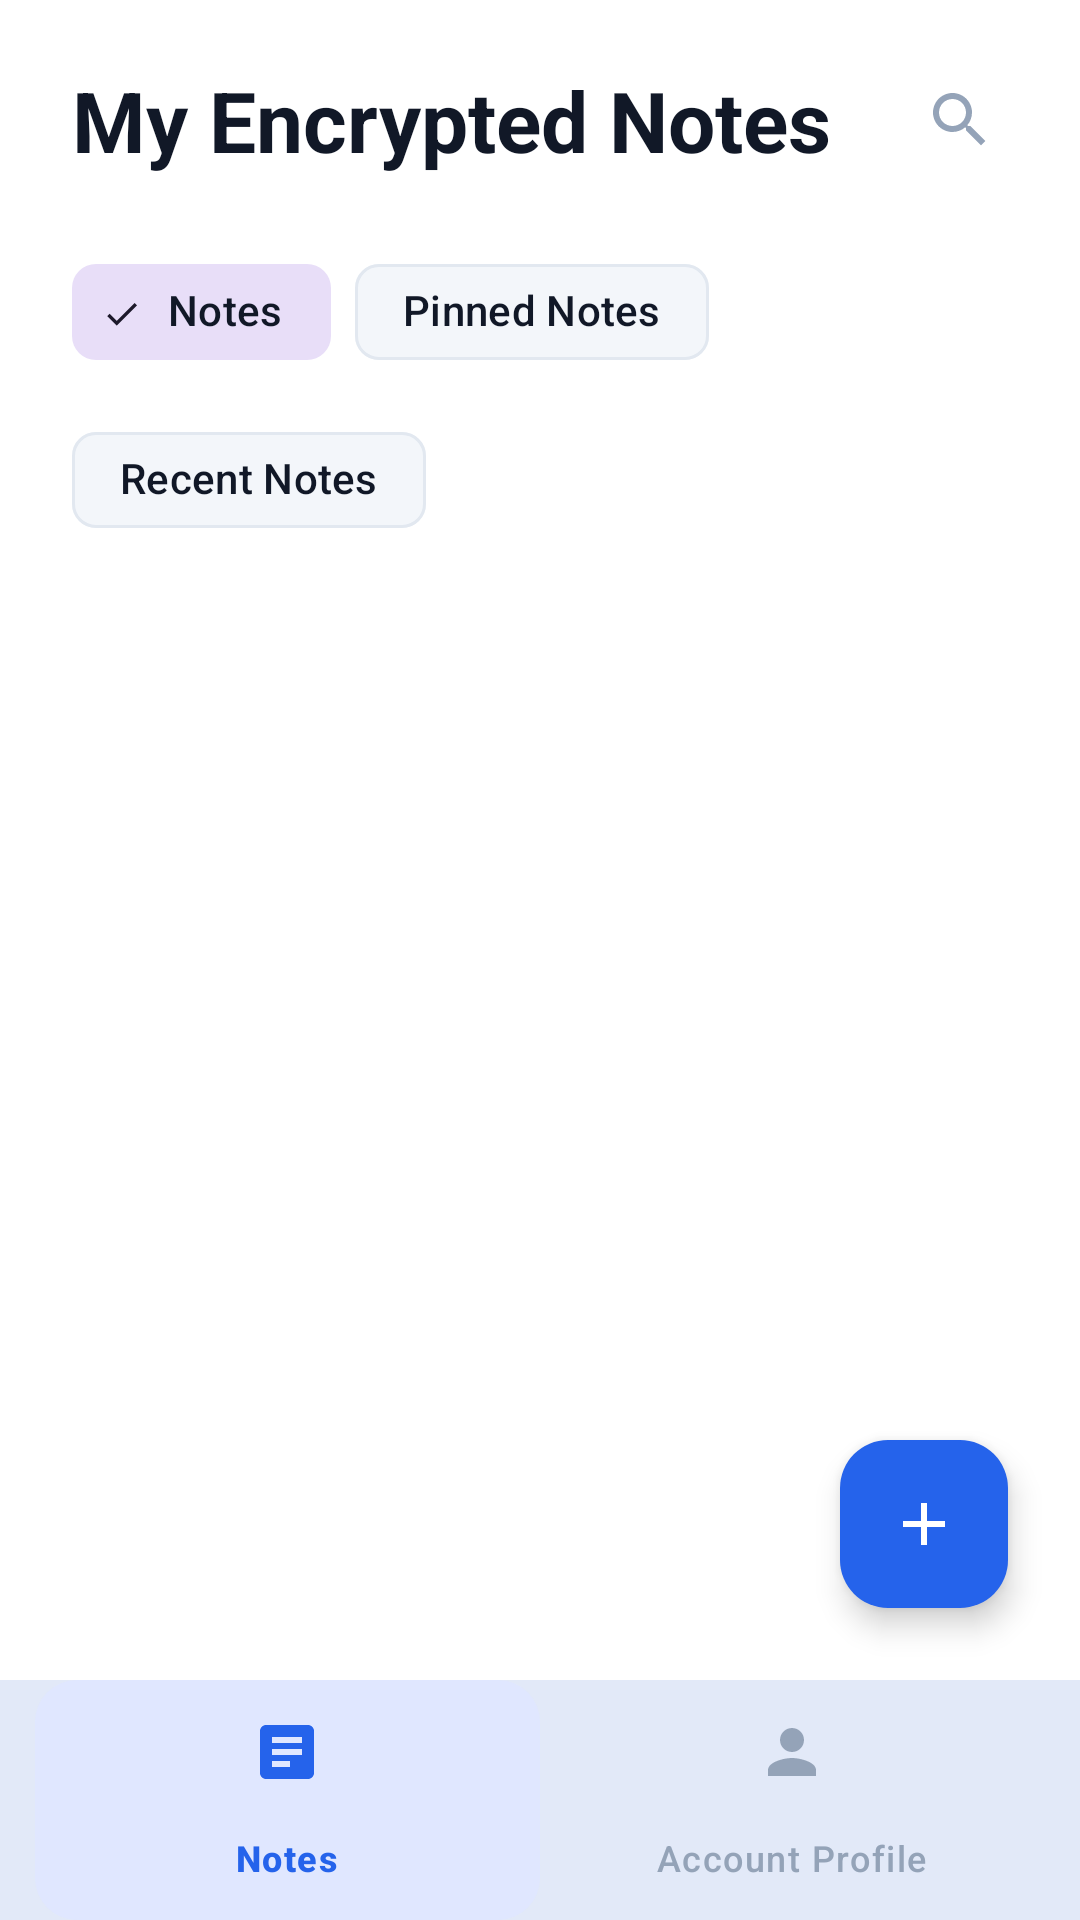

Where to tap for icons on this 1080x1920 app screen, as point (x, y):
Search notes…: point (959, 119)
